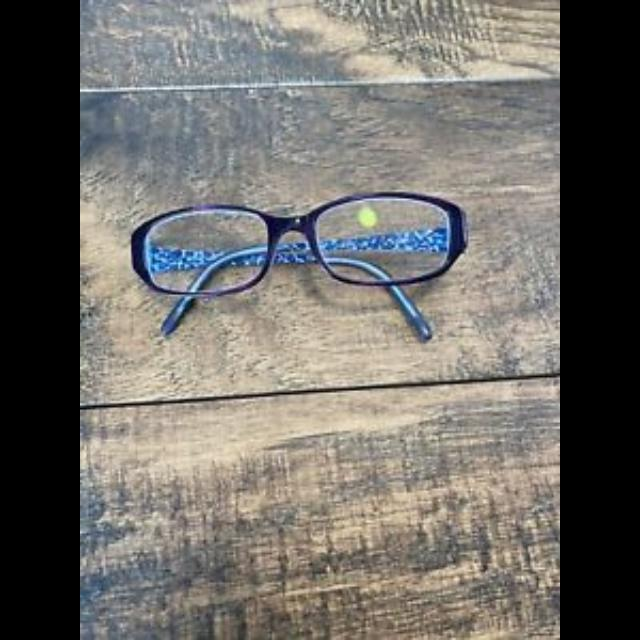glasses: (128, 188, 466, 344)
